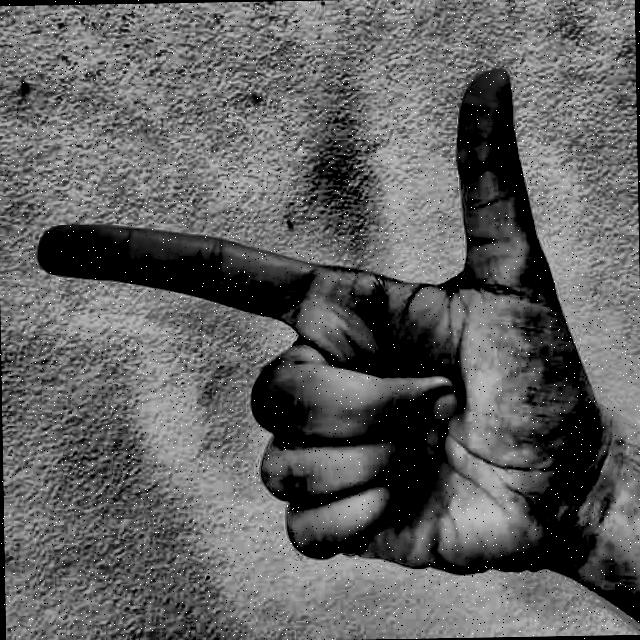Tha: (22, 53, 609, 620)
